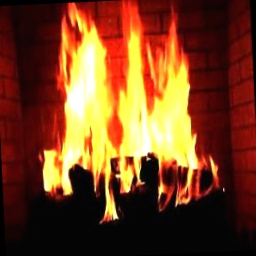fire: (26, 0, 214, 224)
